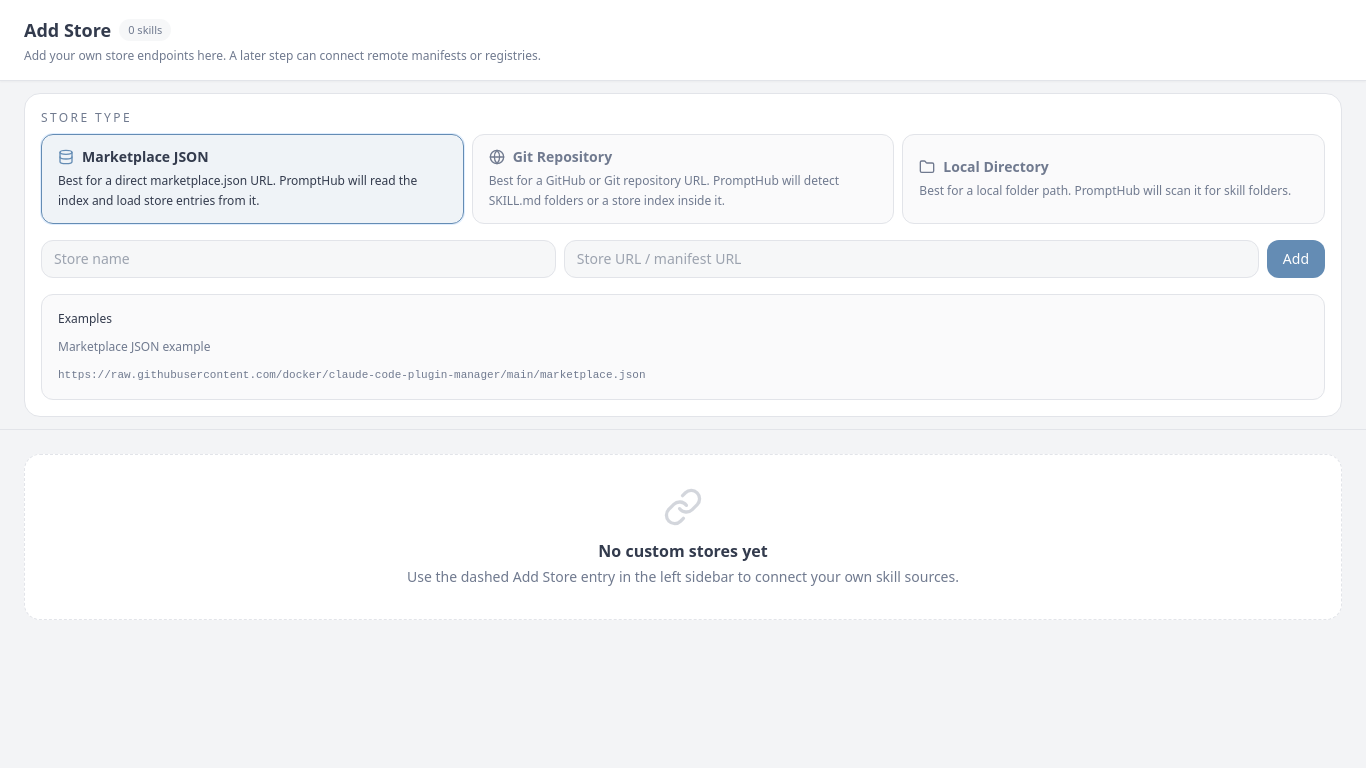
Test: SkillStore custom sources › keeps main visible in branch suggestions when many branches exist
Click the button "Git Repository". click: [683, 179]
box: top-left (472, 134), bottom-right (894, 224)
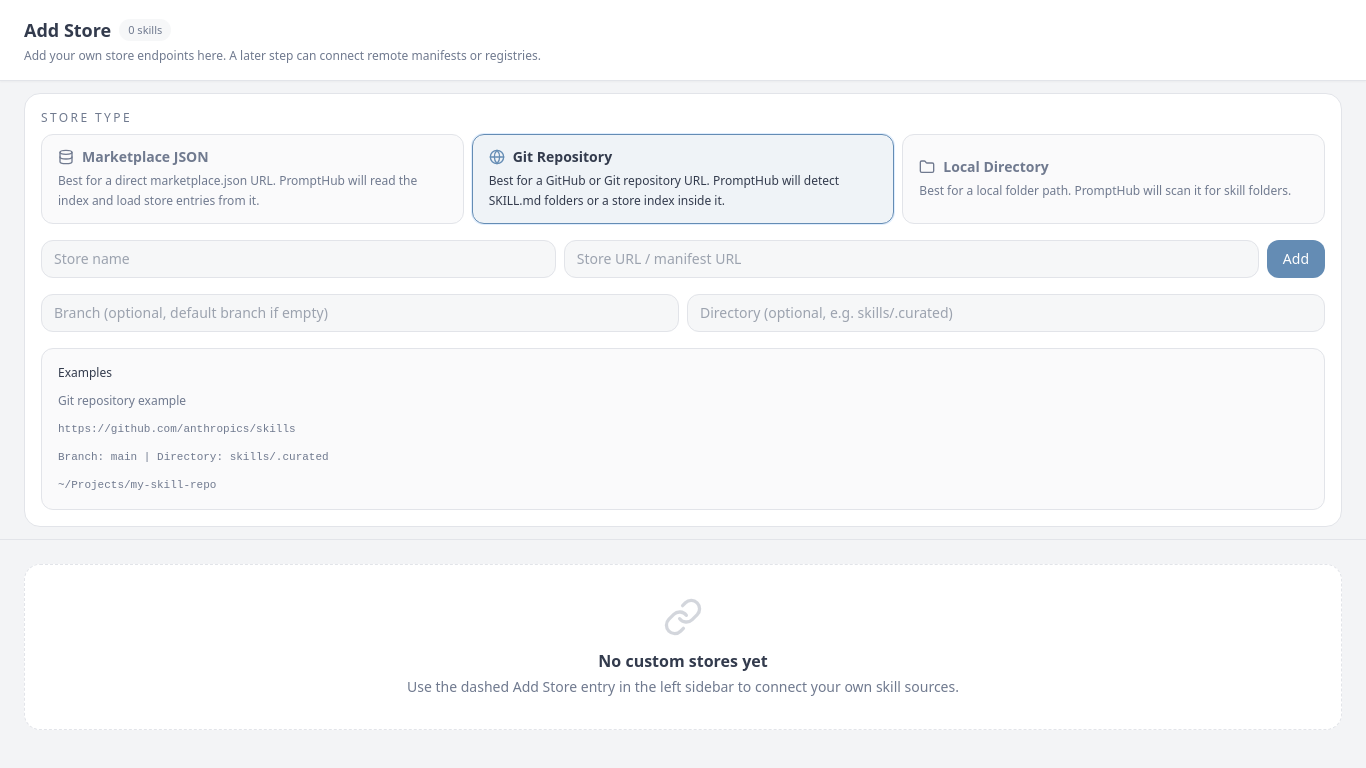
Type "https://github.com/anthropics/skills/tree/main" into the field with placeholder "Store URL / manifest URL". click: [911, 259]
box: top-left (564, 240), bottom-right (1259, 278)
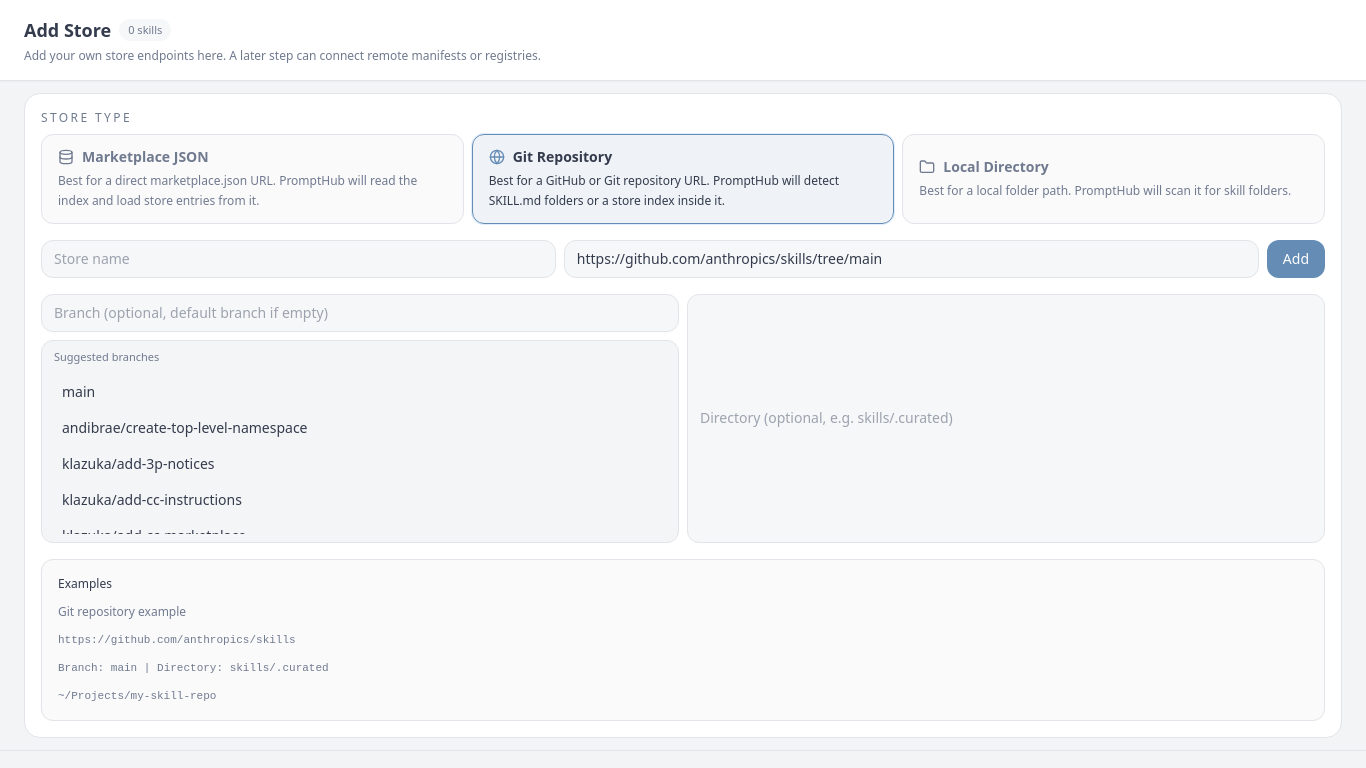
Expected: the button "main" is shown, top-left (50, 374), bottom-right (670, 410)
